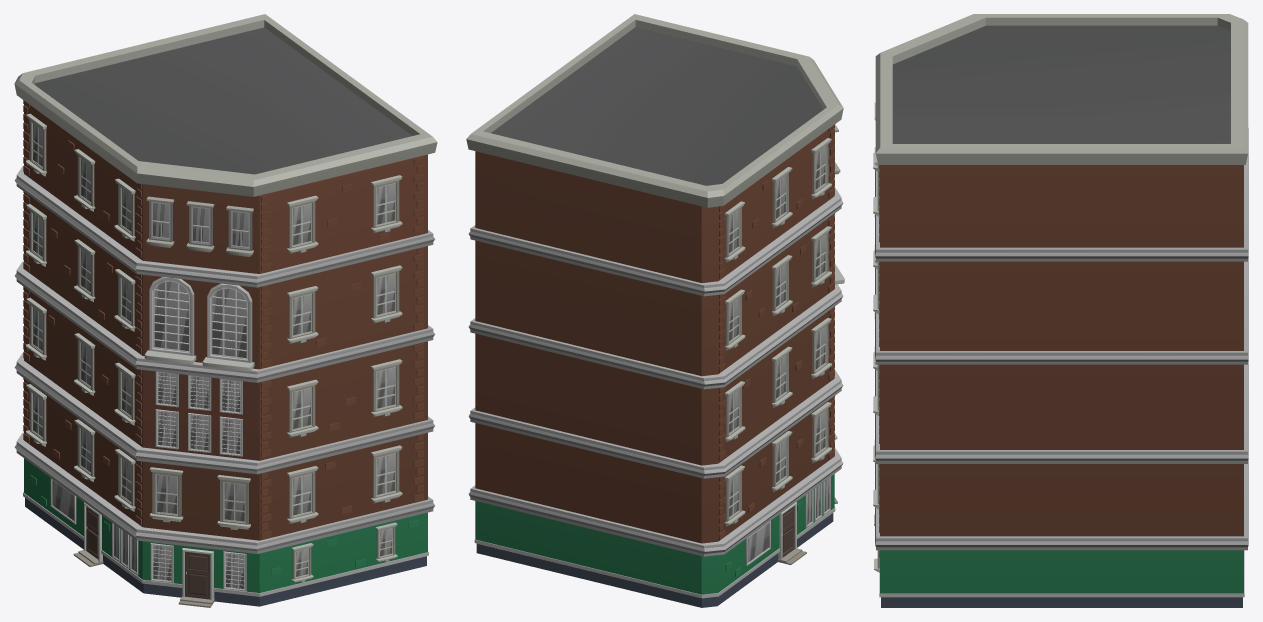
The model's file is Building_25_1_H.glb.
3 renders of one model, left to right at view 1: azimuth 30°, elevation 25°; view 2: azimuth 150°, elevation 25°; view 3: azimuth 270°, elevation 25°, orthographic. The views are drawn at different scales.
Parts seen in each view (by area): view 1: Building_25_1_H; view 2: Building_25_1_H; view 3: Building_25_1_H.
Boxes of the visible parts, <box> form: Building_25_1_H: <box>14,14,437,607</box>; Building_25_1_H: <box>466,14,844,607</box>; Building_25_1_H: <box>873,14,1248,607</box>.
Size of the model in its own units: 12.91 by 20.14 by 14.79.
Materials: 3 (3 with a texture image).
